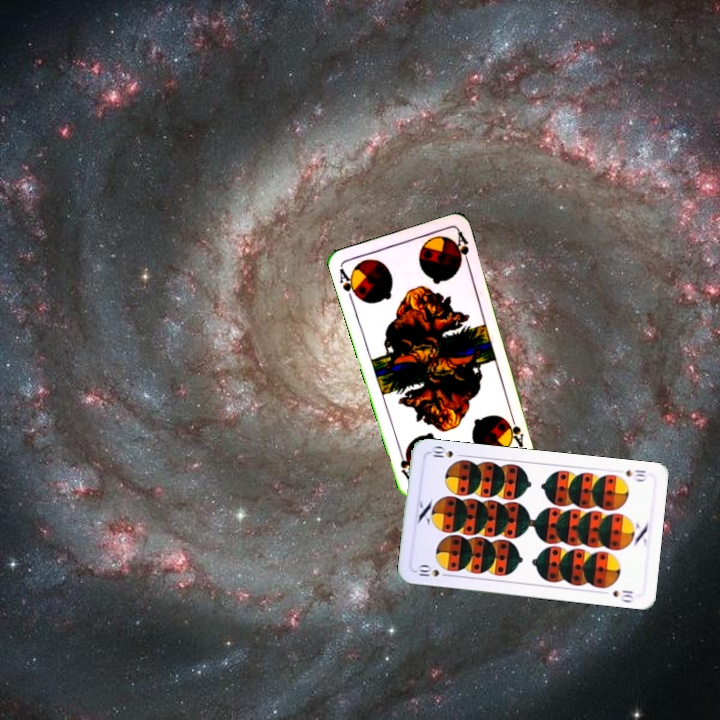S10: (414, 562, 452, 579), (622, 466, 649, 479)
SA: (335, 264, 362, 304), (506, 408, 526, 448)
